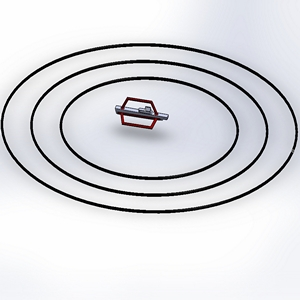circle: (1, 39, 299, 223)
submarine: (110, 88, 173, 141)
